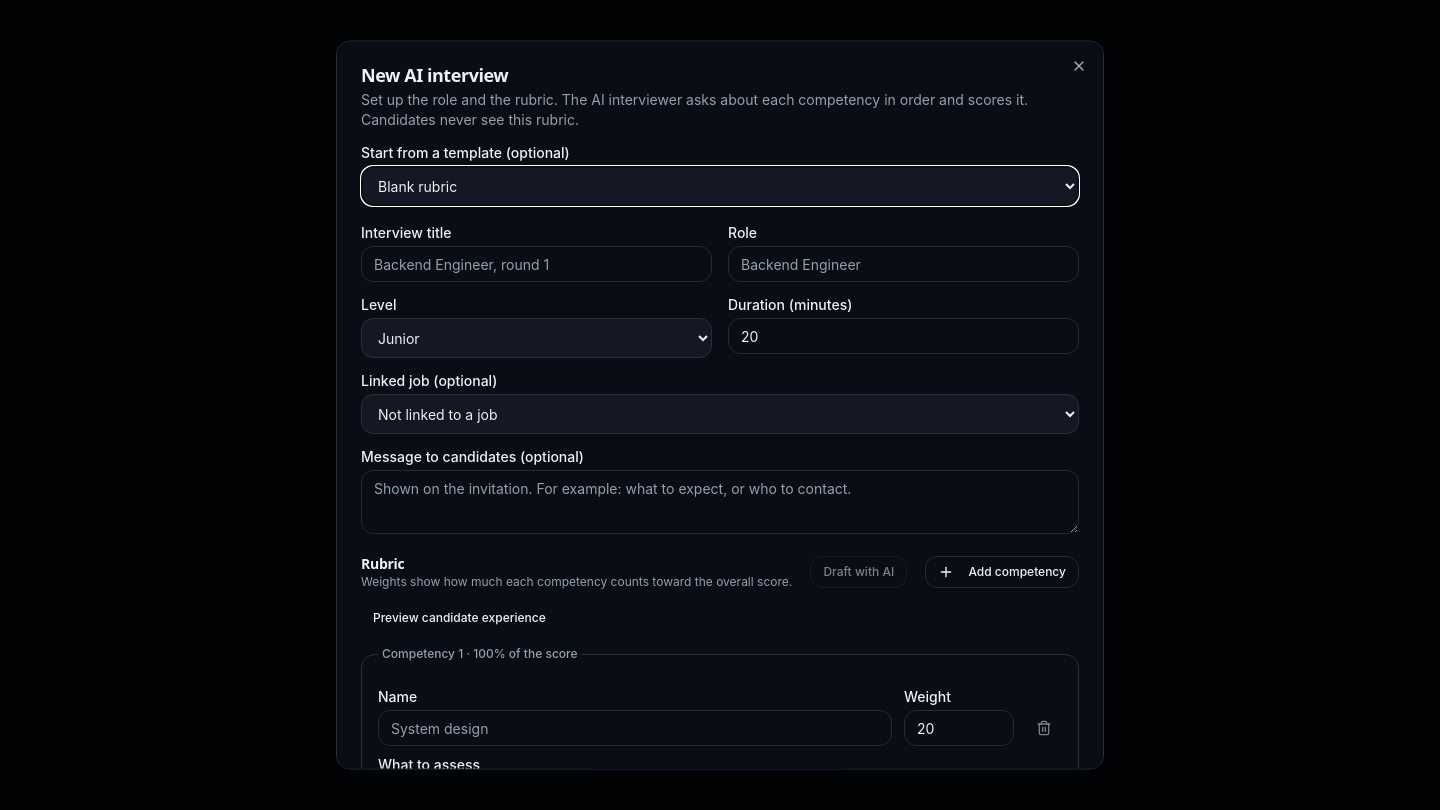
Test case: TemplateFormDialog › changing a weight updates every competency's share straight away
Select "AI / ML Engineer" in the dropdown labelled "Start from a template (optional)" at point(720, 186), box [361,166,1079,206]
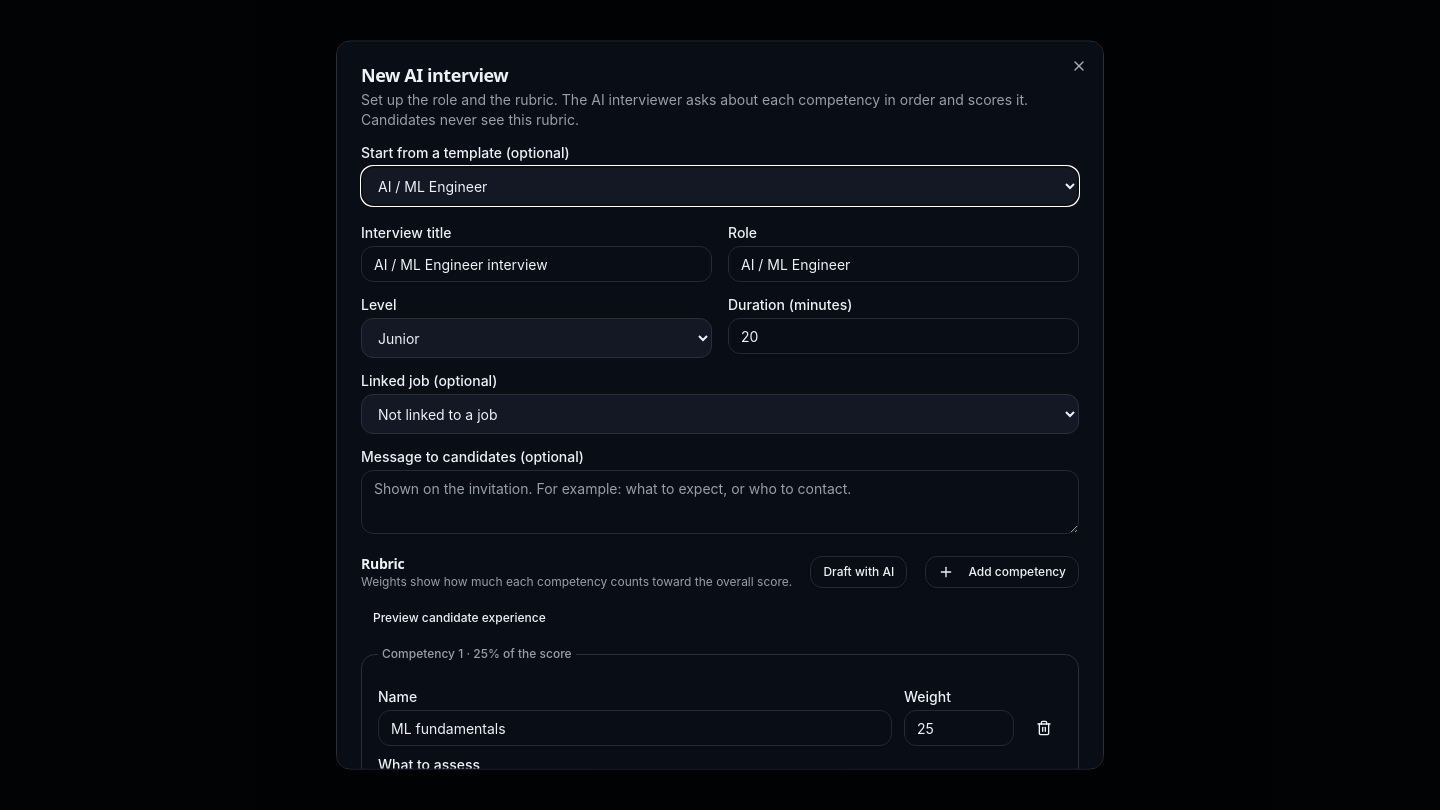
Replace the text in the number field labelled "Weight" with "75" at point(959, 728), box [904,710,1014,746]
(page scrolled)
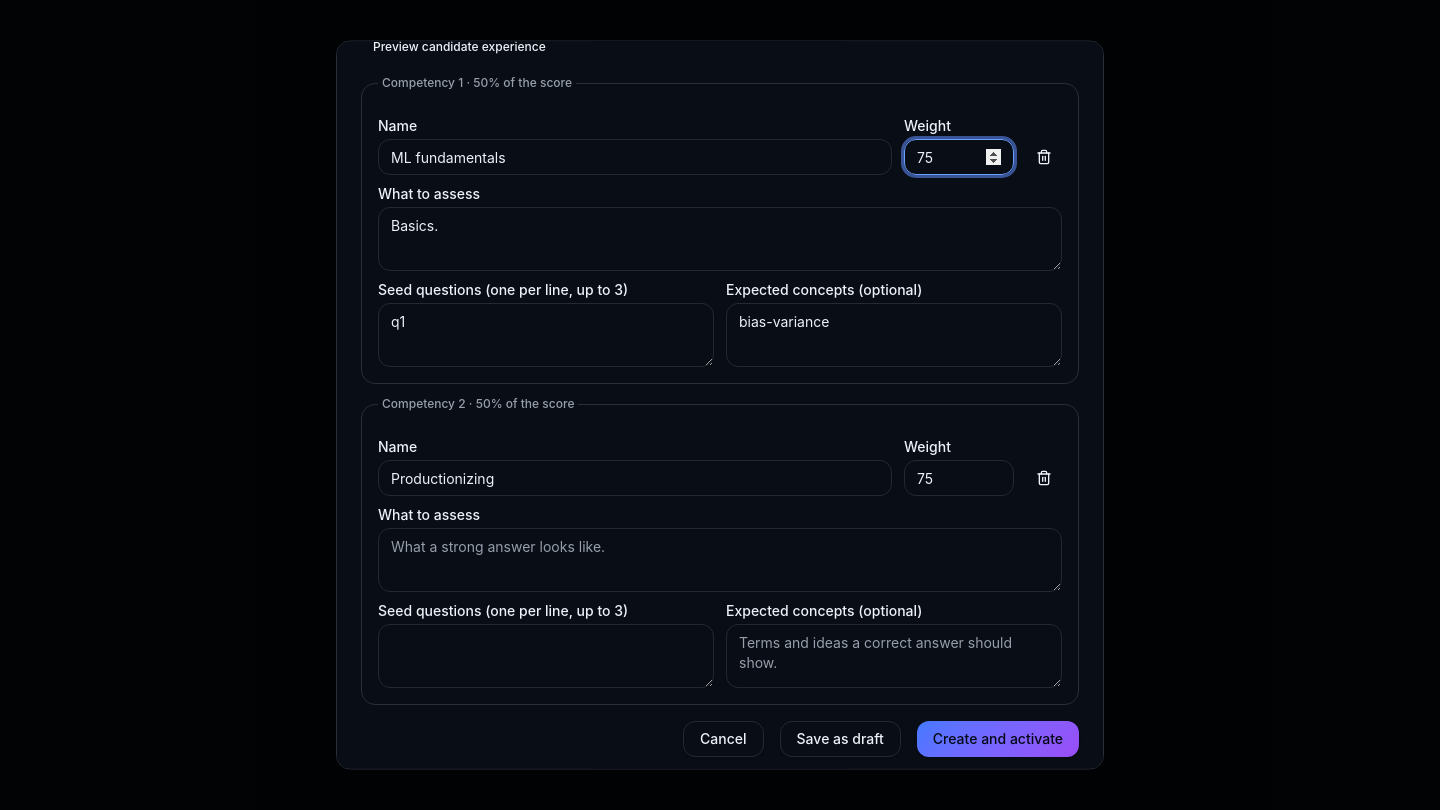
Check: the text "Competency 1 · 50% of the score" is shown, box [378,76,576,92]
Check: the text "Competency 2 · 50% of the score" is shown, box [378,396,578,412]
